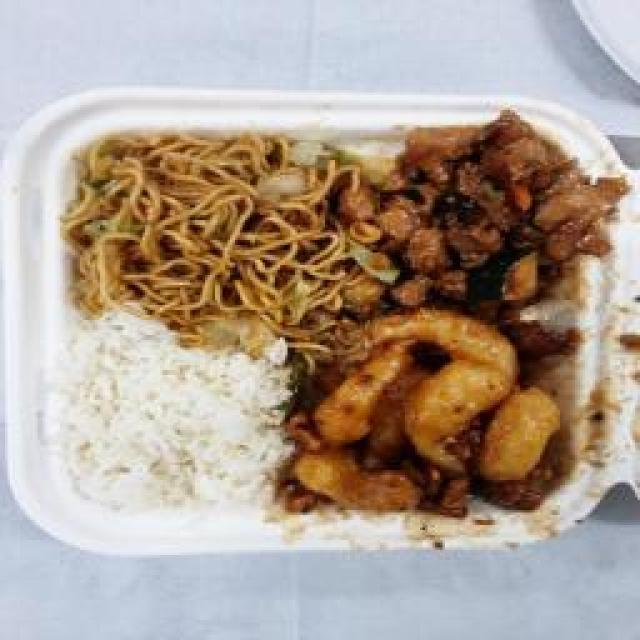Chow Mein: (65, 130, 345, 335)
Honey Walnut Shrimp: (285, 312, 578, 520)
Kung Pao Chicken: (343, 120, 613, 318)
White Steamed Rice: (53, 327, 288, 515)
